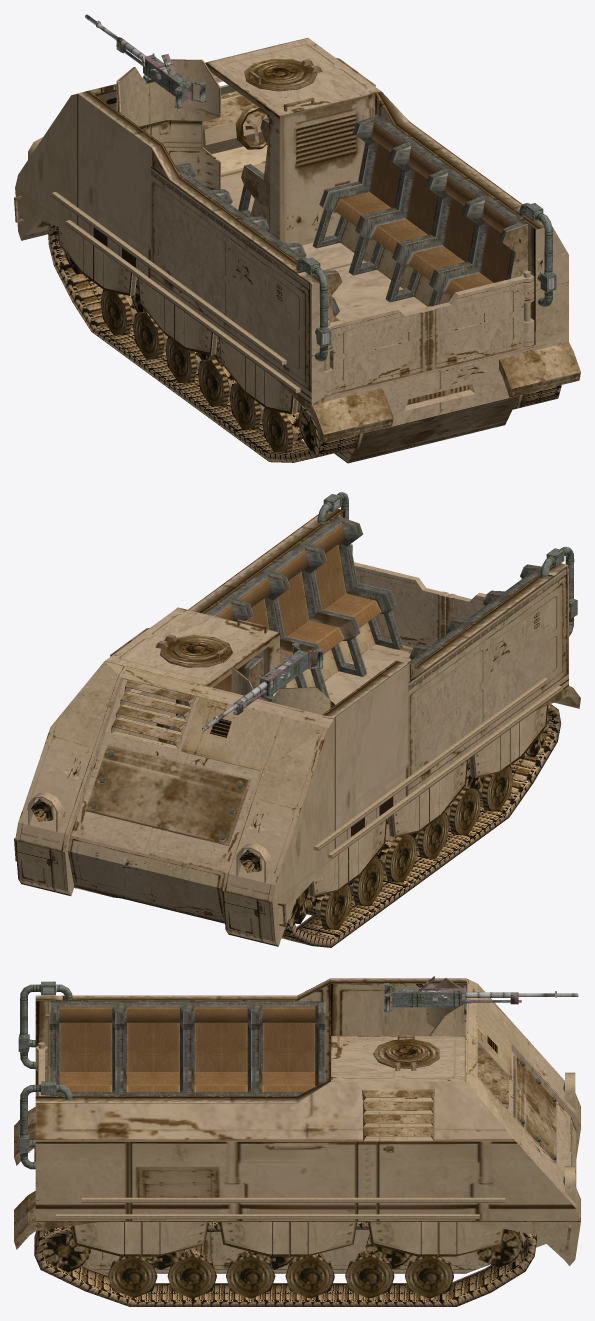
Rendered from Model_Misc_APC.fbx.
3 views of the same model, one above another, from view 1: azimuth 30°, elevation 25°; view 2: azimuth 150°, elevation 25°; view 3: azimuth 270°, elevation 25° (orthographic). The views are drawn at different scales.
Visible parts, largest first — view 1: APC; view 2: APC; view 3: APC.
Part boxes in pixels (<box>): APC: <box>14,14,580,463</box>; APC: <box>14,492,580,947</box>; APC: <box>14,976,580,1306</box>.
Size of the model in its own units: 325 by 312 by 643.
